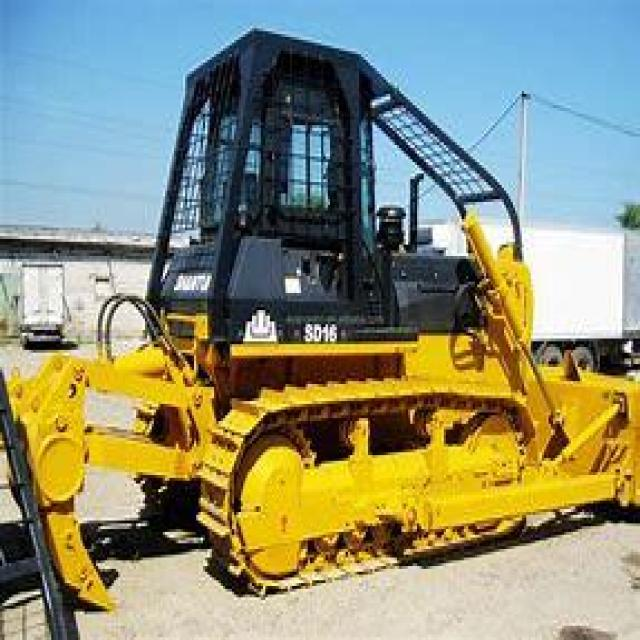buldozerpayloadergrader: (4, 6, 638, 606)
